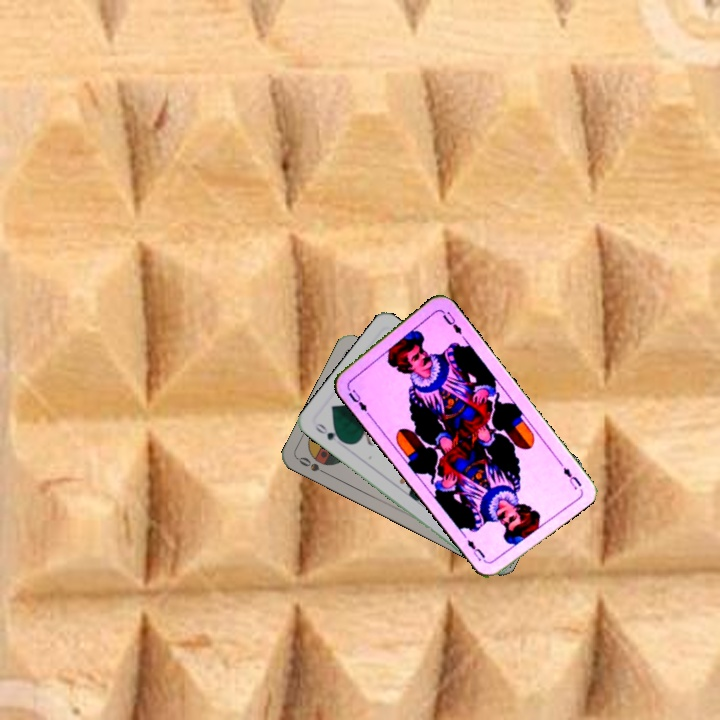EU: (344, 385, 372, 417), (559, 463, 584, 492)
GO: (311, 419, 347, 446)
SO: (294, 453, 332, 478)
